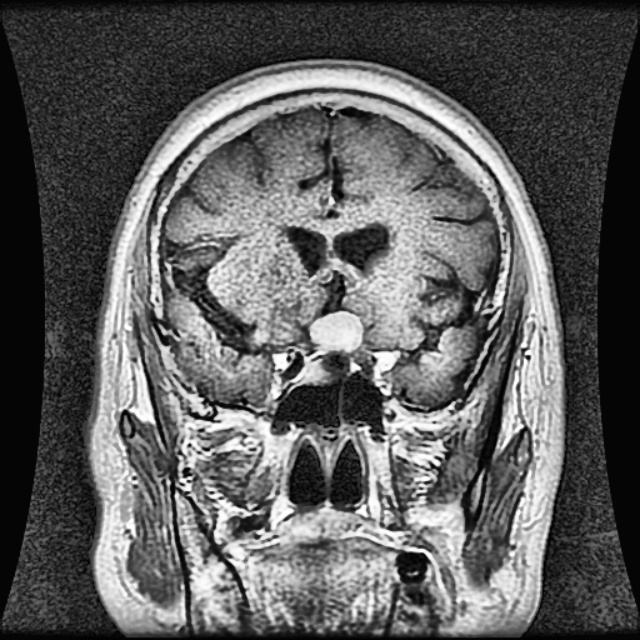Pituitary: (308, 310, 365, 352)
